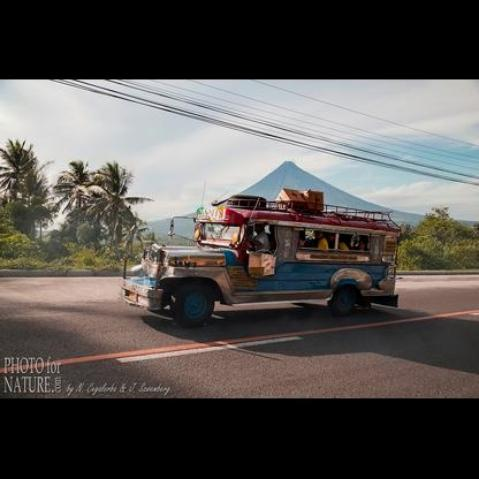jeepney: (116, 181, 412, 331)
